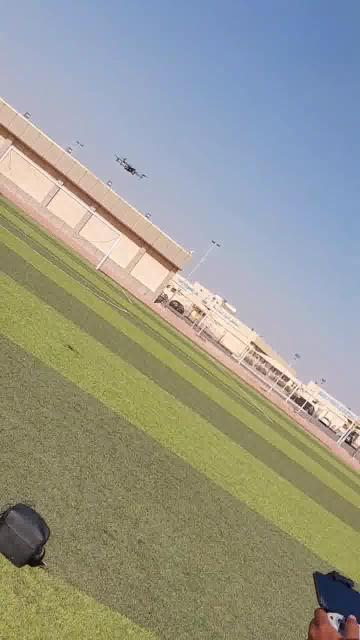drone: (110, 152, 150, 184)
